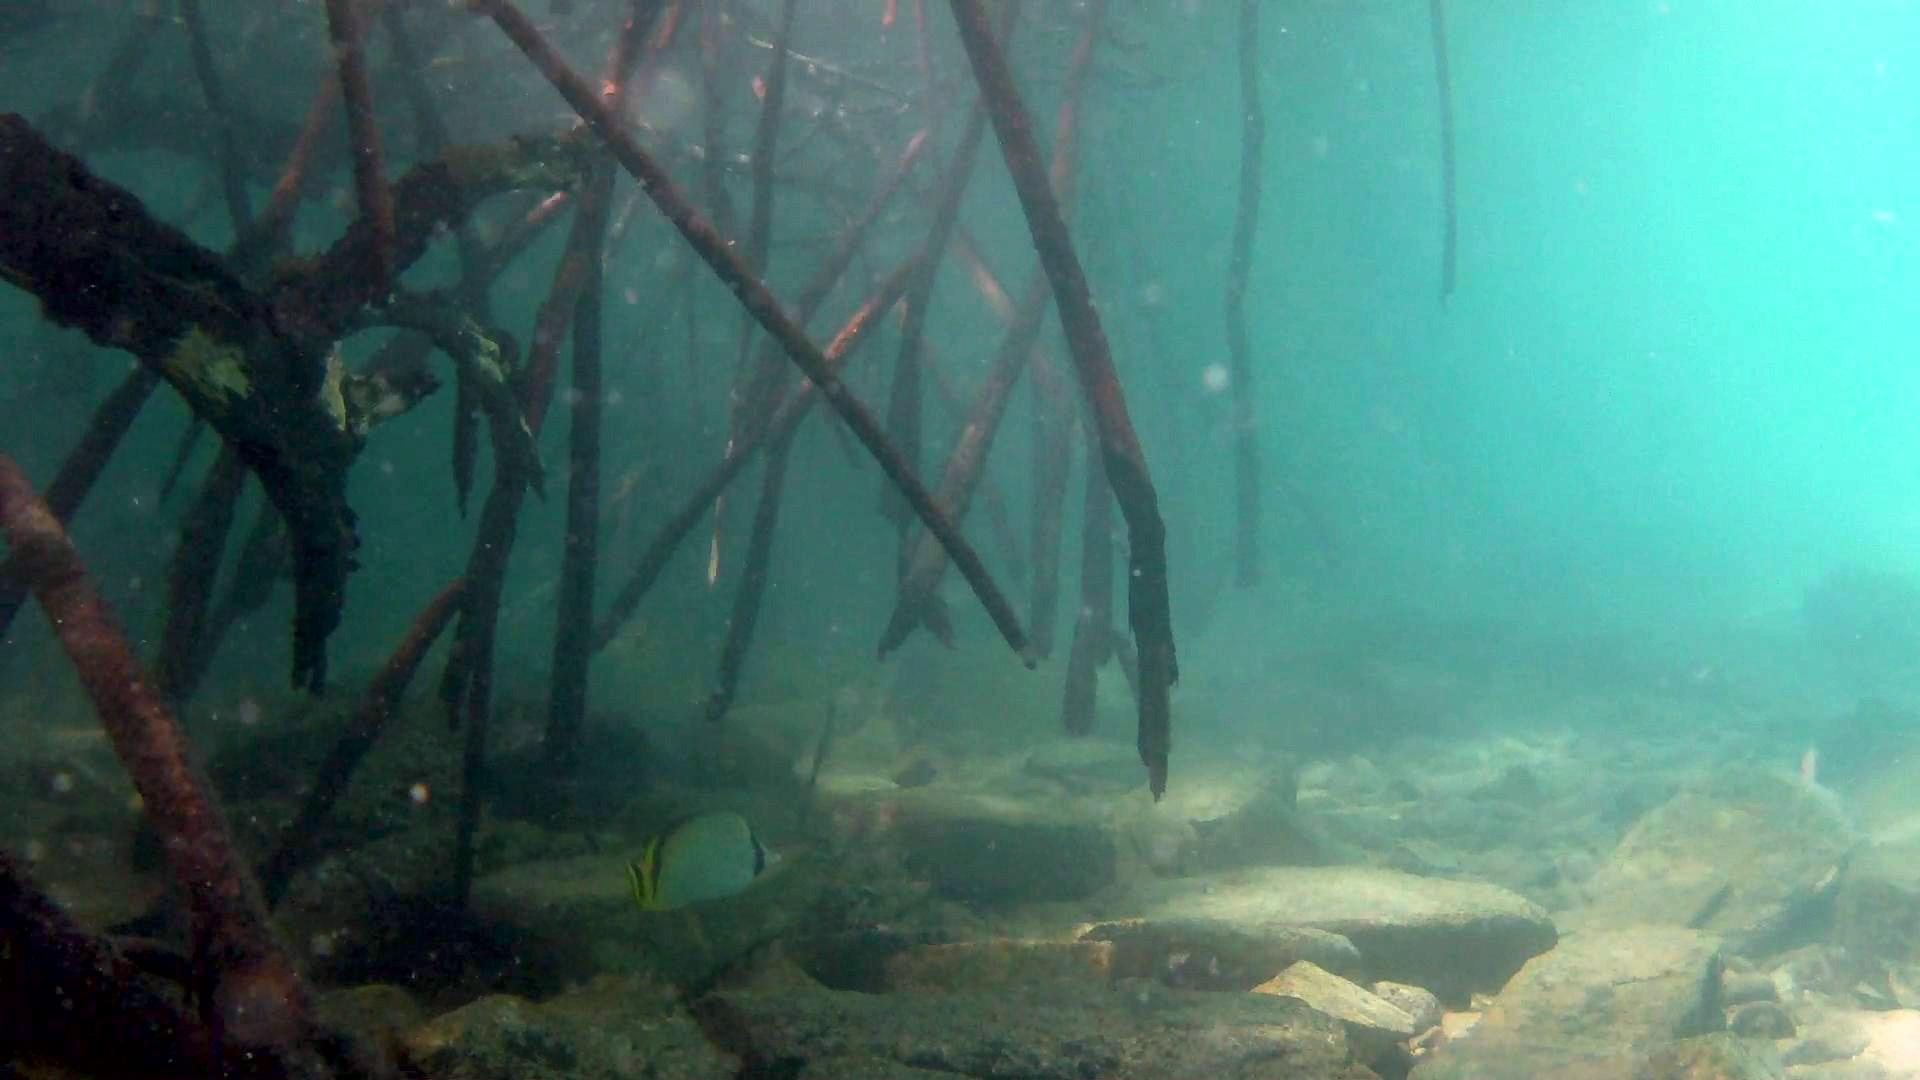chaetodon vagabundus: (620, 803, 789, 916)
